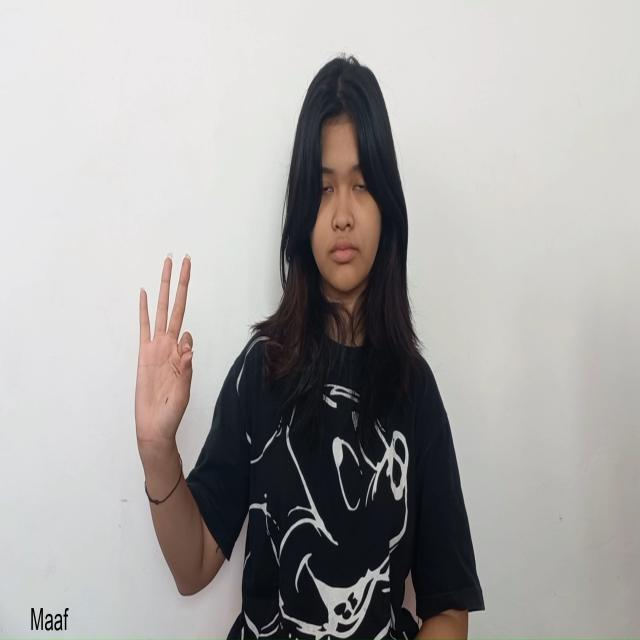Maaf -BISINDO-: (133, 249, 195, 468)
